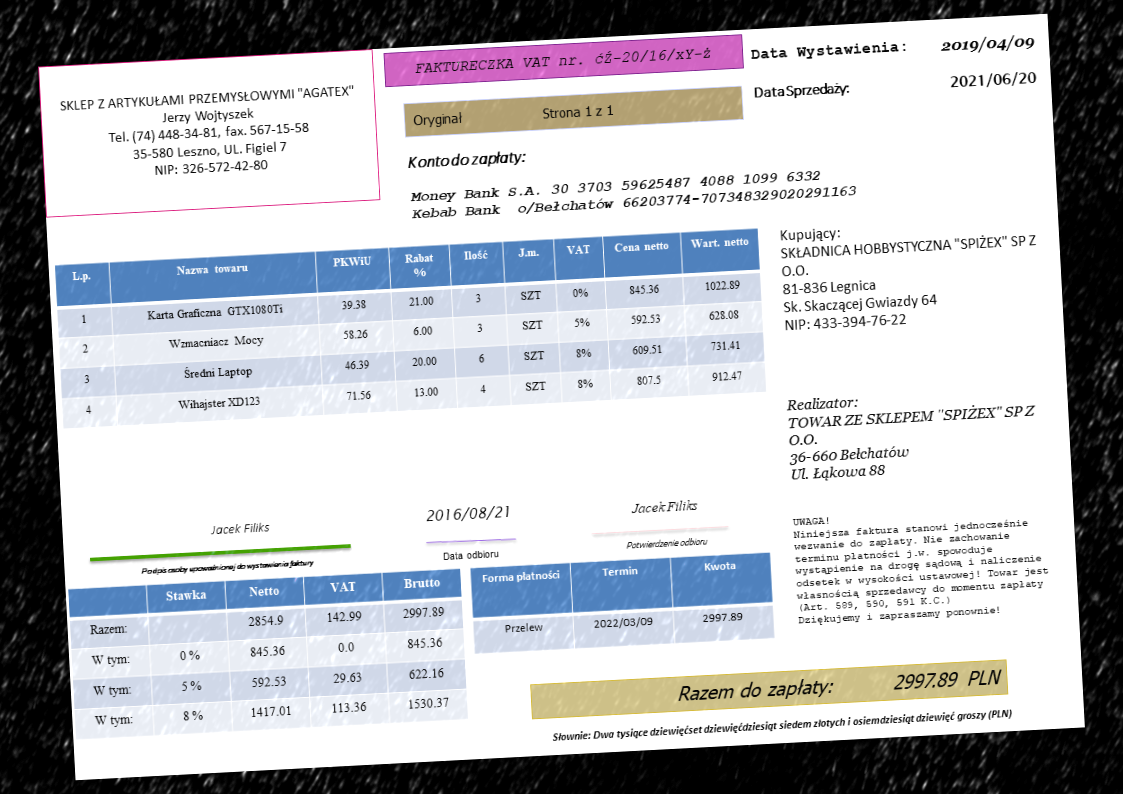Table: (53, 225, 769, 430), (66, 566, 470, 742), (468, 549, 777, 655)
TextBox: (776, 212, 1046, 337), (789, 501, 1054, 628), (55, 80, 361, 184), (407, 164, 859, 223), (783, 383, 1042, 485), (549, 704, 1016, 747), (673, 664, 1004, 707), (412, 44, 715, 77), (410, 99, 617, 132), (138, 554, 316, 580), (747, 36, 908, 64), (403, 145, 529, 175), (749, 77, 852, 104), (421, 501, 513, 528), (937, 33, 1039, 57), (948, 68, 1037, 93), (622, 533, 711, 553), (627, 494, 701, 518), (207, 518, 274, 539), (440, 546, 501, 563)
